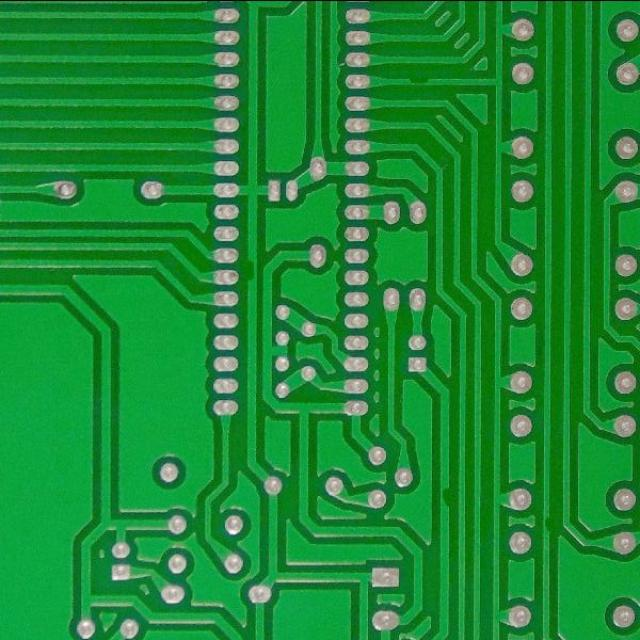mouse_bite: (434, 481, 456, 518), (241, 256, 260, 287), (403, 70, 434, 88), (539, 511, 558, 536)
